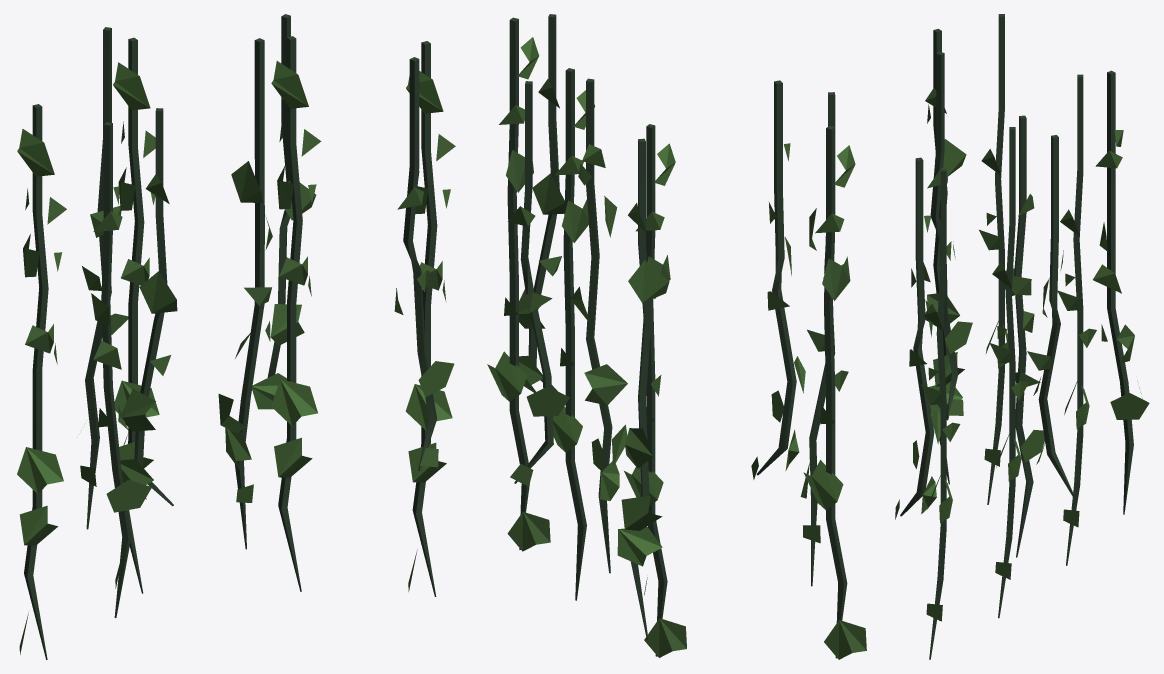
File: SM_Env_Tree_Vines_02.glb
The picture shows the model from 3 angles, left to right: view 1: azimuth 30°, elevation 25°; view 2: azimuth 150°, elevation 25°; view 3: azimuth 270°, elevation 25°; orthographic projection. The views are drawn at different scales.
Visible parts, largest first — view 1: SM_Env_Tree_Vines_02; view 2: SM_Env_Tree_Vines_02; view 3: SM_Env_Tree_Vines_02.
Part boxes in pixels (box(x1,y1,x2,y2)): SM_Env_Tree_Vines_02: box(17, 14, 455, 659); SM_Env_Tree_Vines_02: box(487, 14, 866, 659); SM_Env_Tree_Vines_02: box(895, 14, 1149, 659).
Size of the model in its own units: 0.0241 by 0.0305 by 0.0144.
